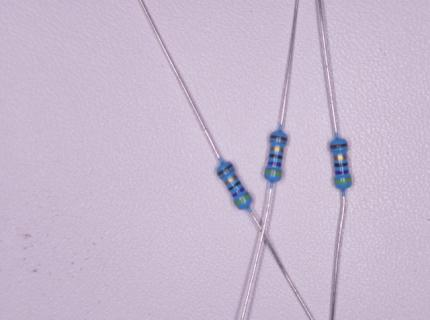Black band: (228, 181, 241, 191), (269, 154, 283, 160), (334, 163, 348, 168)
Brown band: (218, 164, 233, 176), (330, 144, 348, 149), (271, 135, 286, 141)
Gold band: (224, 174, 238, 186), (269, 147, 285, 153), (333, 155, 347, 161)
Violet band: (232, 187, 245, 198), (335, 169, 350, 175), (268, 161, 282, 167)
Yellow band: (235, 194, 251, 207), (334, 178, 353, 184), (265, 170, 282, 176)
